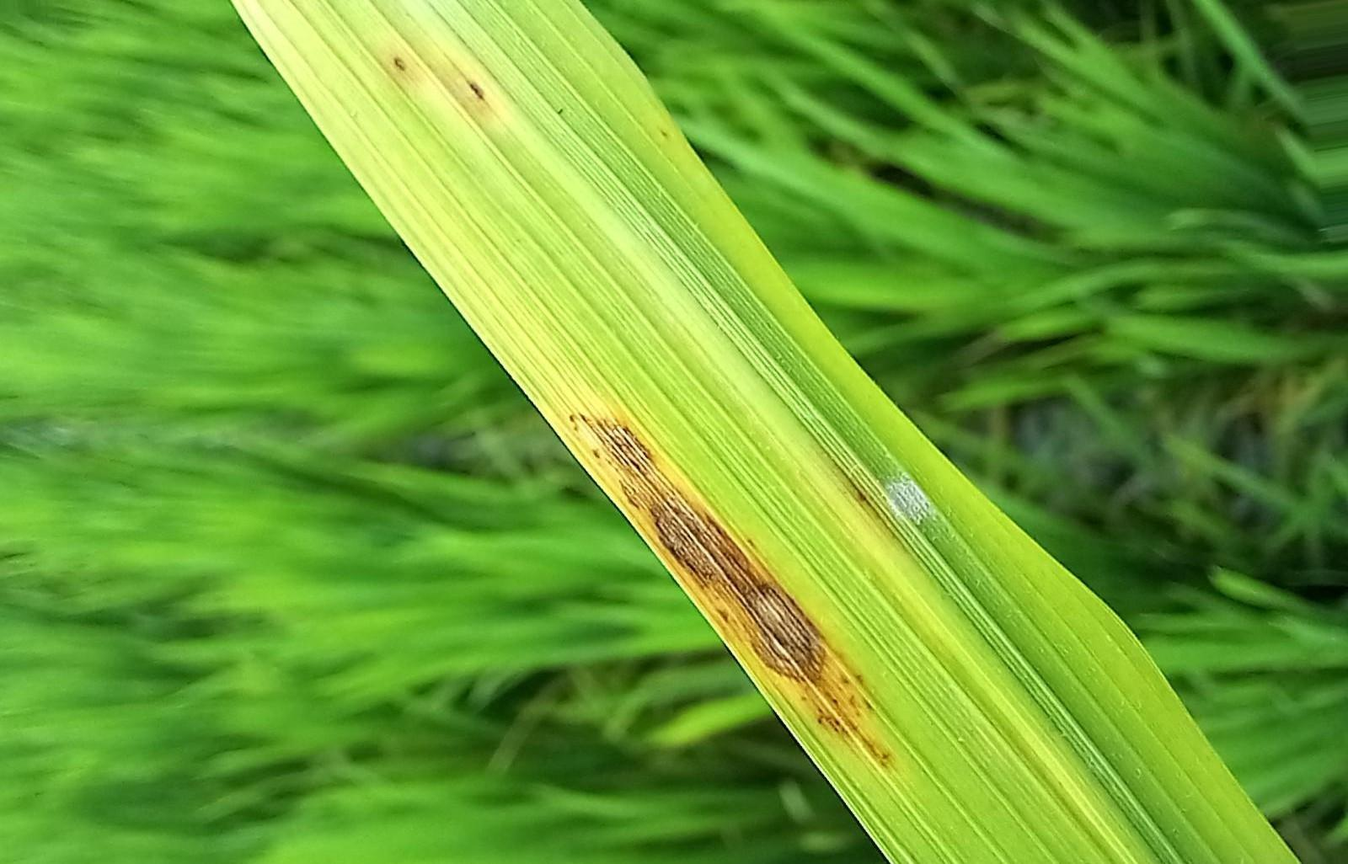LEAF: (232, 0, 1295, 863)
LEAF BLAST: (572, 415, 890, 763)
